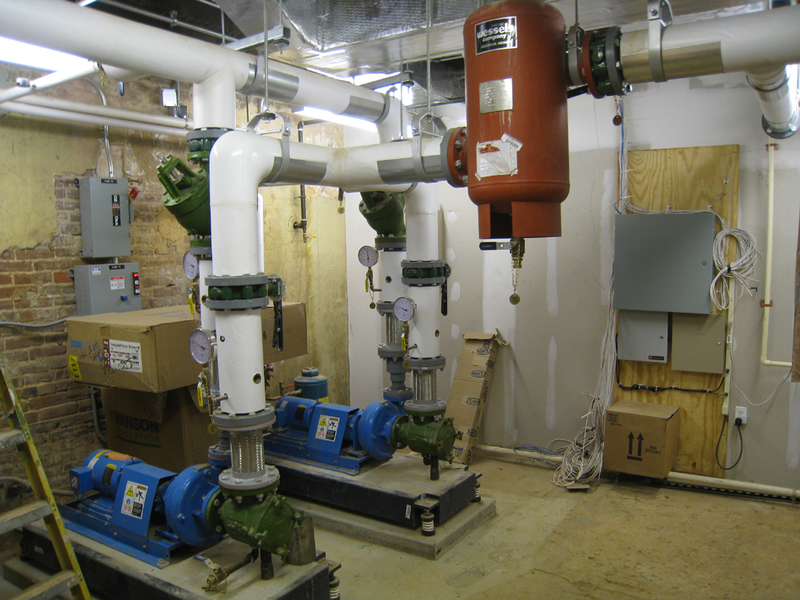valve: (186, 367, 214, 413), (182, 279, 205, 322), (395, 319, 413, 352), (359, 261, 376, 295)
